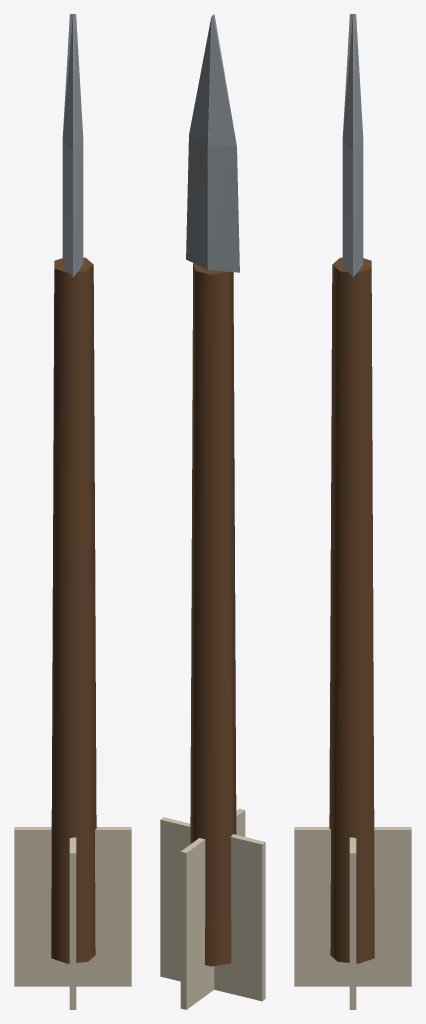
The model's file is dart.glb.
The picture shows the model from 3 angles, left to right: view 1: azimuth 90°, elevation 25°; view 2: azimuth 150°, elevation 25°; view 3: azimuth 270°, elevation 25°; orthographic projection.
Visible parts, largest first — view 1: dart-shaft, dart-fletching (×2), dart-tip; view 2: dart-shaft, dart-fletching (×2), dart-tip; view 3: dart-shaft, dart-fletching (×2), dart-tip.
Part boxes in pixels (x1,y1,x2,y2): dart-shaft: (51,257,96,963); dart-fletching (×2): (14,827,131,1009); dart-tip: (62,14,83,277); dart-shaft: (190,263,236,966); dart-fletching (×2): (160,808,265,1009); dart-tip: (186,14,239,272); dart-shaft: (329,257,374,963); dart-fletching (×2): (294,827,411,1009); dart-tip: (342,14,363,277).
Bounding box in the file's own units: 0.0264 × 0.2411 × 0.0264.
